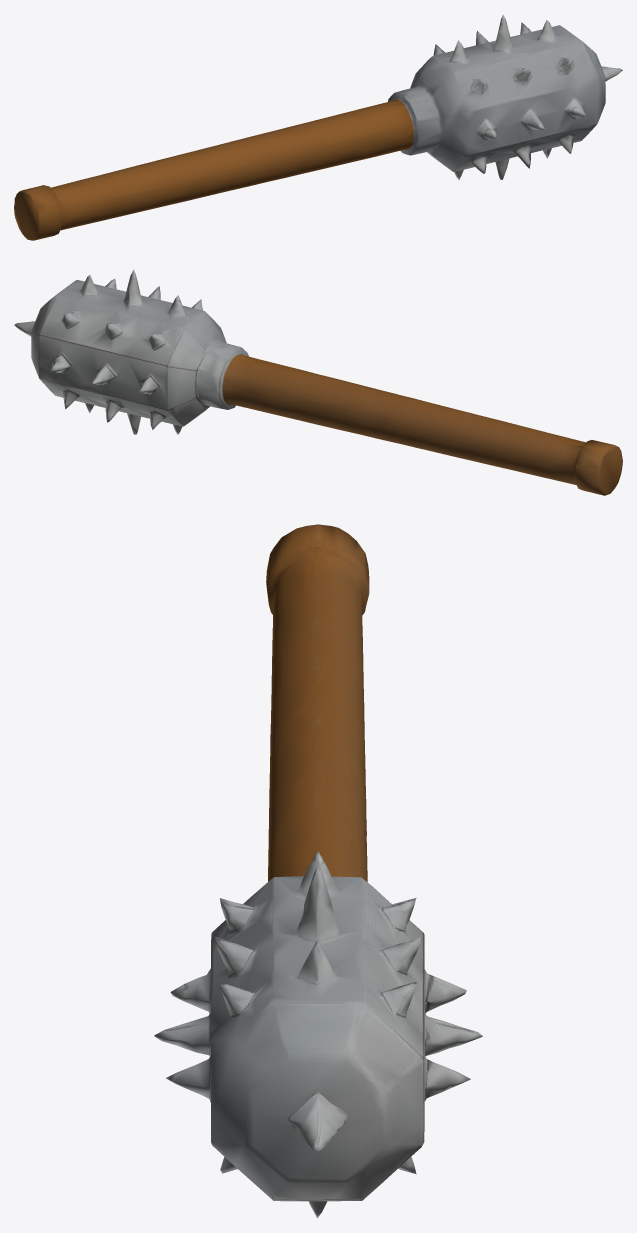
The model's file is Bludger.fbx.
3 views of the same model, one above another, from view 1: azimuth 30°, elevation 25°; view 2: azimuth 150°, elevation 25°; view 3: azimuth 270°, elevation 25° (orthographic). The views are drawn at different scales.
Visible parts, largest first — view 1: Mesh_0; view 2: Mesh_0; view 3: Mesh_0.
Boxes of the visible parts, x1,y1,x2,y2 form: Mesh_0: [14, 14, 622, 240]; Mesh_0: [14, 269, 622, 495]; Mesh_0: [154, 524, 482, 1218].
Bounding box in the file's own units: 189 × 50 × 45.24.
Materials: 1 (1 with a texture image).
